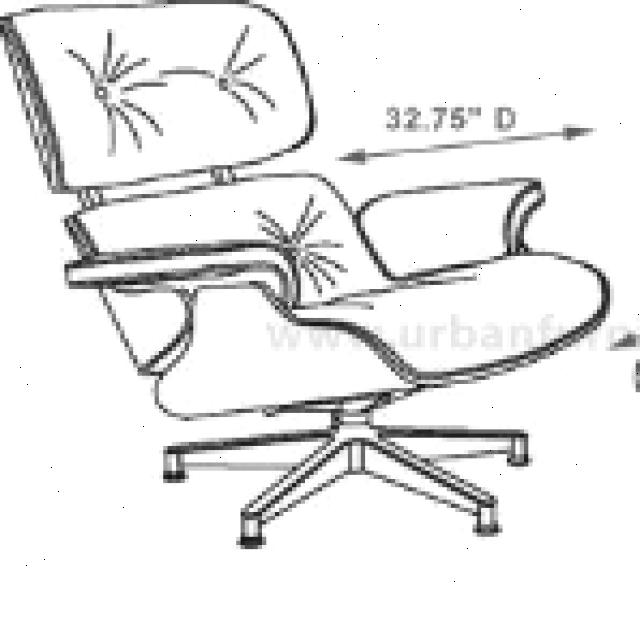Backrest: (70, 172, 398, 380)
Eames_base: (153, 411, 541, 559)
Eames_lounge: (354, 179, 547, 282), (65, 241, 303, 311)
Headrest: (0, 0, 320, 195)
Seat: (151, 253, 612, 421)
